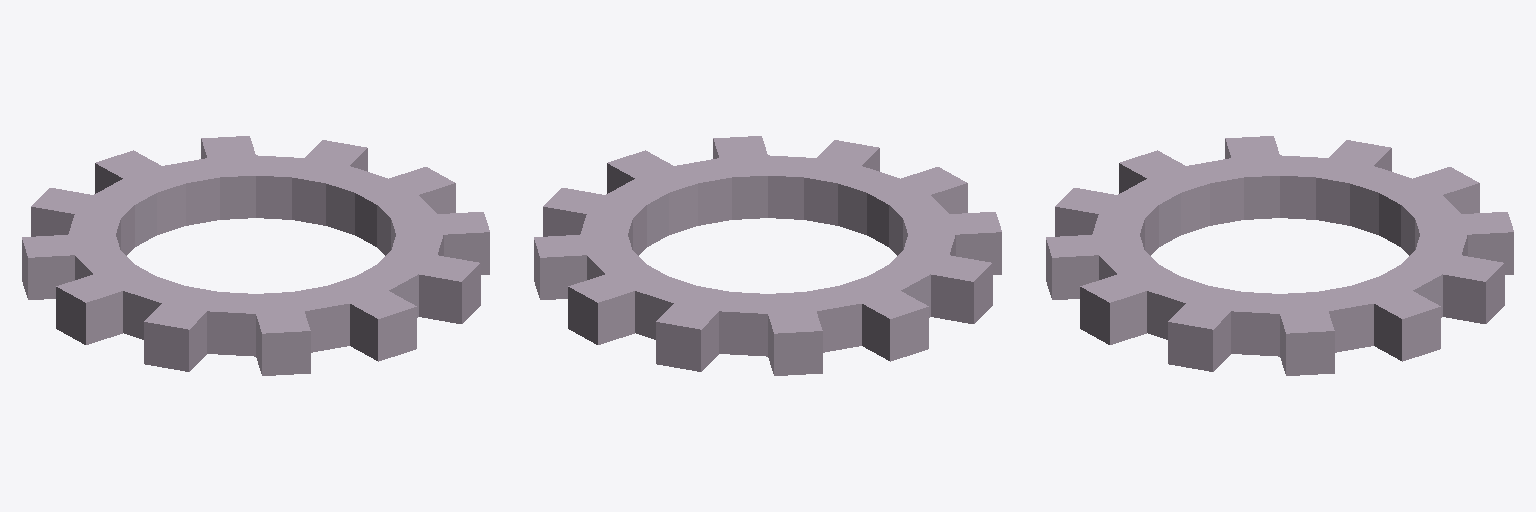
Rendered from gear1.obj.
3 views of the same model, side by side, from view 1: azimuth 30°, elevation 25°; view 2: azimuth 150°, elevation 25°; view 3: azimuth 270°, elevation 25° (orthographic).
Parts seen in each view (by area): view 1: Cylinder; view 2: Cylinder; view 3: Cylinder.
Boxes of the visible parts, <box> form: Cylinder: <box>22,136,489,375</box>; Cylinder: <box>534,136,1001,375</box>; Cylinder: <box>1046,136,1513,375</box>.
Size of the model in its own units: 2.5 by 0.25 by 2.5.